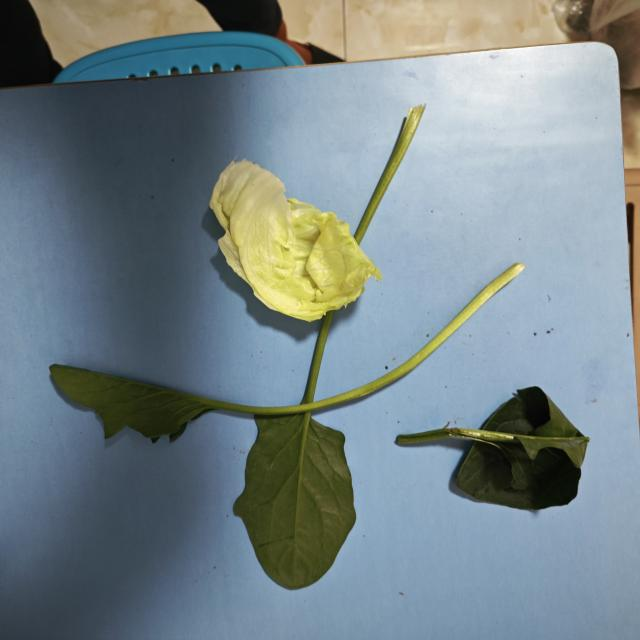-Kitchen waste - vegetable roots and leaves-: (238, 94, 422, 591), (44, 264, 526, 448), (211, 158, 382, 324), (397, 384, 588, 515)
